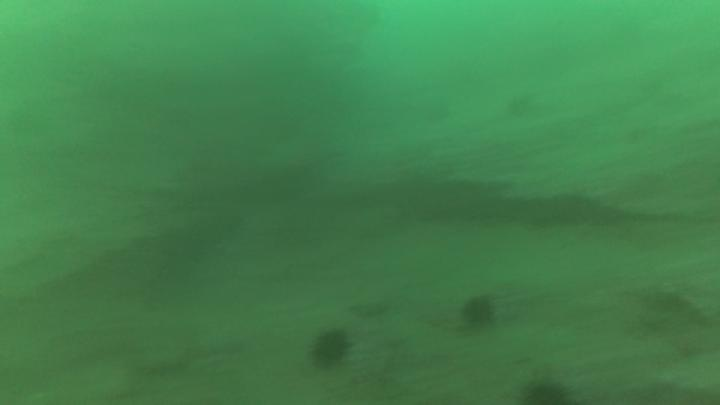echinus: (307, 325, 353, 372), (518, 376, 574, 405), (458, 292, 498, 332), (503, 89, 539, 123)
